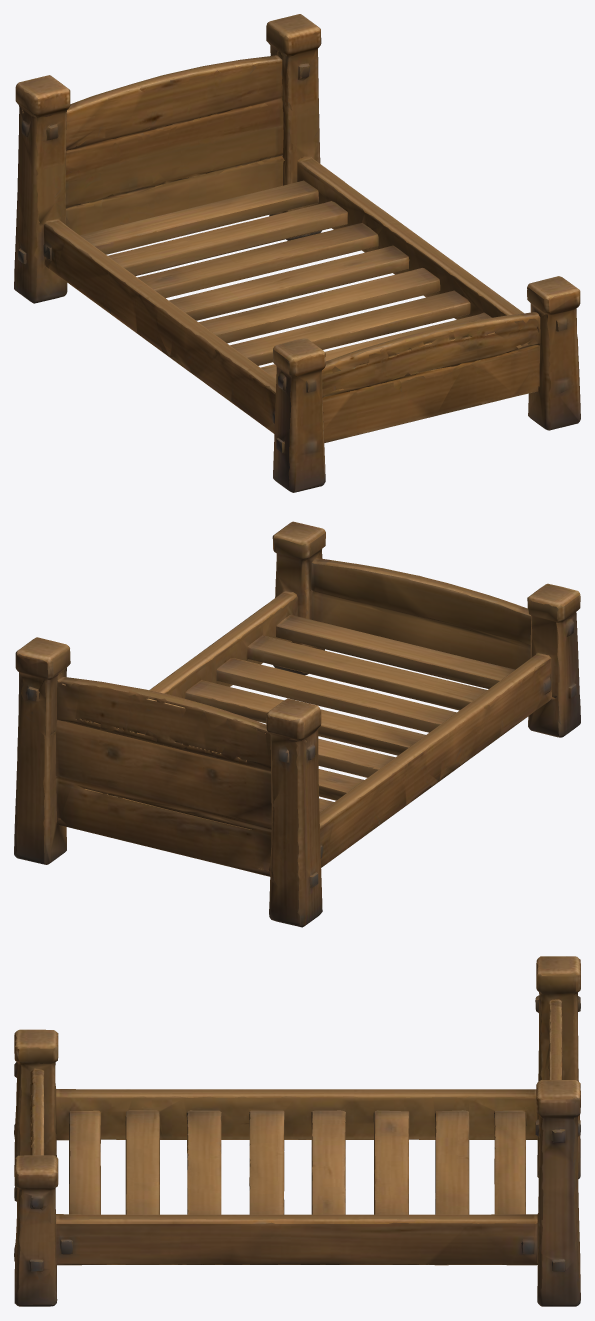
The picture shows the model from 3 angles, top to bottom: view 1: azimuth 30°, elevation 25°; view 2: azimuth 150°, elevation 25°; view 3: azimuth 270°, elevation 25°; orthographic projection.
Parts seen in each view (by area): view 1: geometry_0; view 2: geometry_0; view 3: geometry_0.
Part boxes in pixels (left/top/right/bottom): geometry_0: left=14, top=14, right=580, bottom=492; geometry_0: left=14, top=521, right=580, bottom=927; geometry_0: left=14, top=956, right=580, bottom=1306.
Bounding box in the file's own units: 2.1 × 1.41 × 3.45.
Materials: 1 (1 with a texture image).
